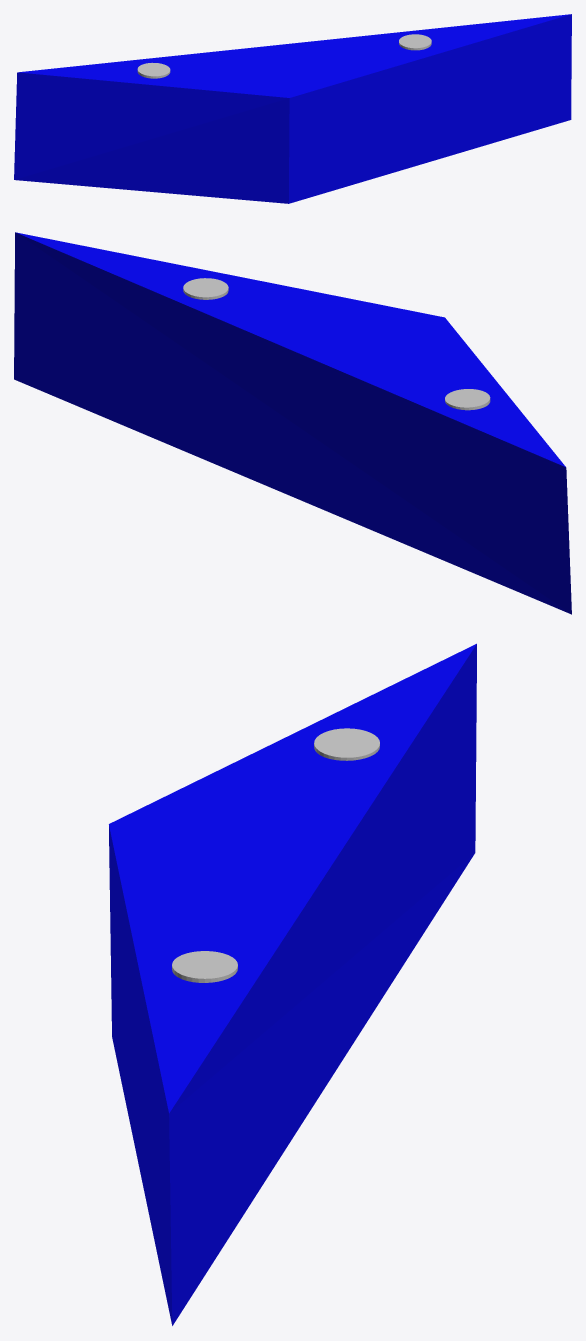
File: barra_inferior_izq.obj
The picture shows the model from 3 angles, top to bottom: view 1: azimuth 30°, elevation 25°; view 2: azimuth 150°, elevation 25°; view 3: azimuth 270°, elevation 25°; orthographic projection. The views are drawn at different scales.
Parts seen in each view (by area): view 1: Cubo.001_Cubo.002, Cilindro.001, Cilindro; view 2: Cubo.001_Cubo.002, Cilindro.001, Cilindro; view 3: Cubo.001_Cubo.002, Cilindro, Cilindro.001.
Boxes of the visible parts, x1,y1,x2,y2 form: Cubo.001_Cubo.002: (14,14,571,203); Cilindro.001: (399,34,431,50); Cilindro: (137,62,170,78); Cubo.001_Cubo.002: (14,232,571,614); Cilindro.001: (183,278,228,299); Cilindro: (445,389,490,410); Cubo.001_Cubo.002: (109,643,476,1325); Cilindro: (314,728,379,760); Cilindro.001: (172,951,237,982).
Size of the model in its own units: 9.47 by 2.07 by 3.14.
